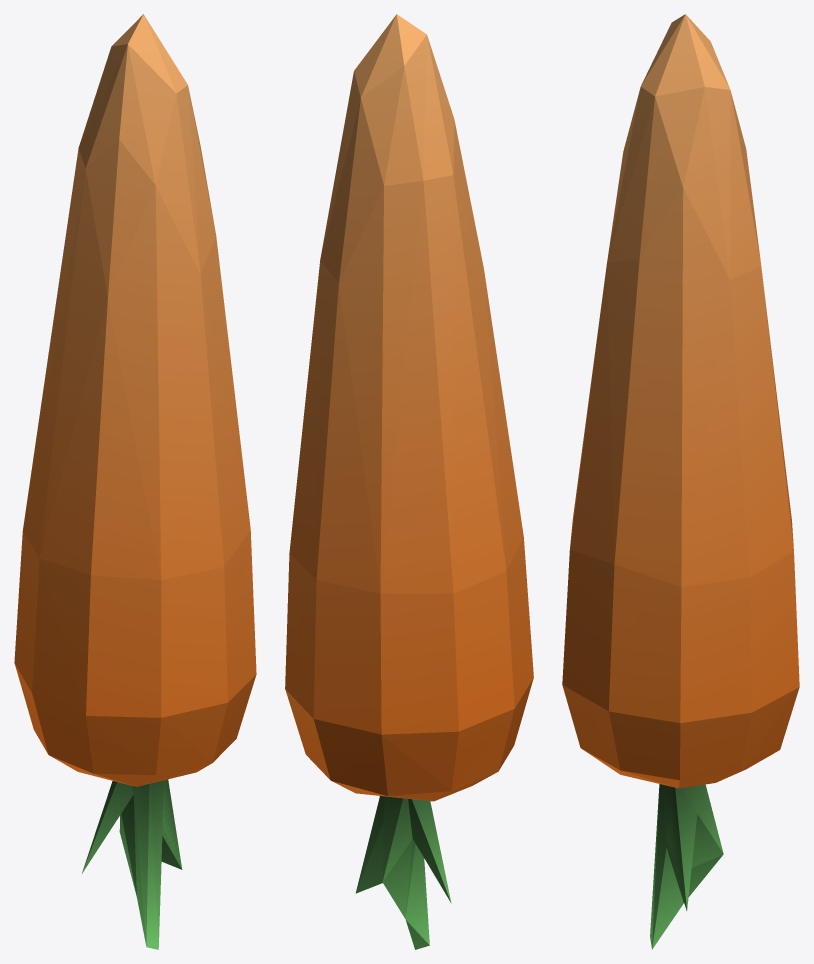
Rendered from Carrot_Asset_1.fbx.
3 views of the same model, side by side, from view 1: azimuth 30°, elevation 25°; view 2: azimuth 150°, elevation 25°; view 3: azimuth 270°, elevation 25° (orthographic). The views are drawn at different scales.
Parts seen in each view (by area): view 1: Carrot; view 2: Carrot; view 3: Carrot.
Boxes of the visible parts, x1,y1,x2,y2 form: Carrot: [14, 14, 256, 949]; Carrot: [285, 14, 533, 949]; Carrot: [562, 14, 799, 949].
Size of the model in its own units: 8.61 by 36.02 by 8.27.
